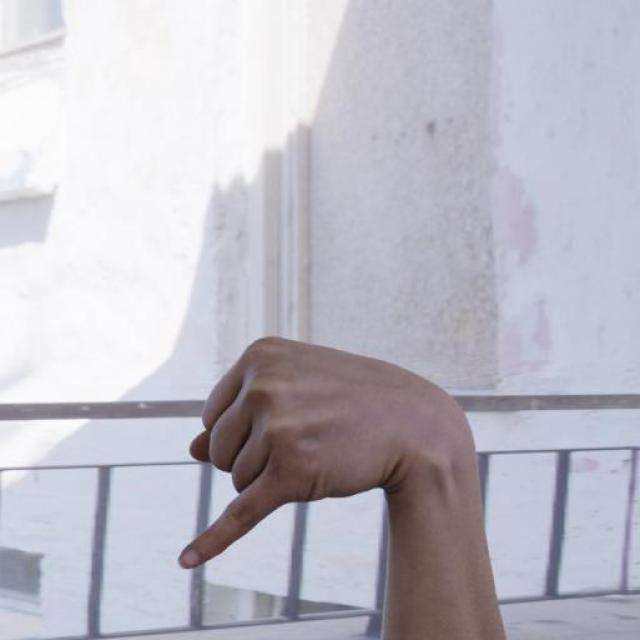J: (173, 332, 477, 583)
